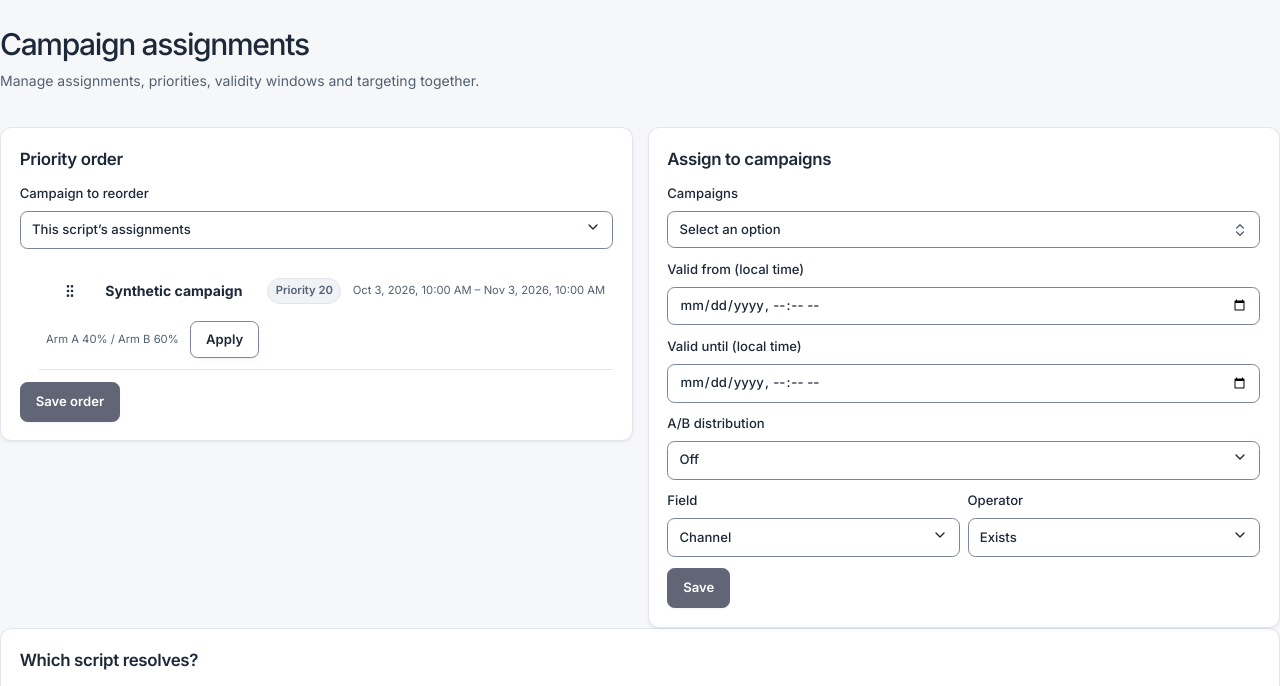
Test case: keeps an assignment editor open when batch saving fails and allows cancel
The image size is (1280, 686).
Expected: the text "Synthetic campaign" is shown, [105,280,256,301]
Click the button "Apply": x=225, y=339 [190,321,259,358]
(page scrolled)
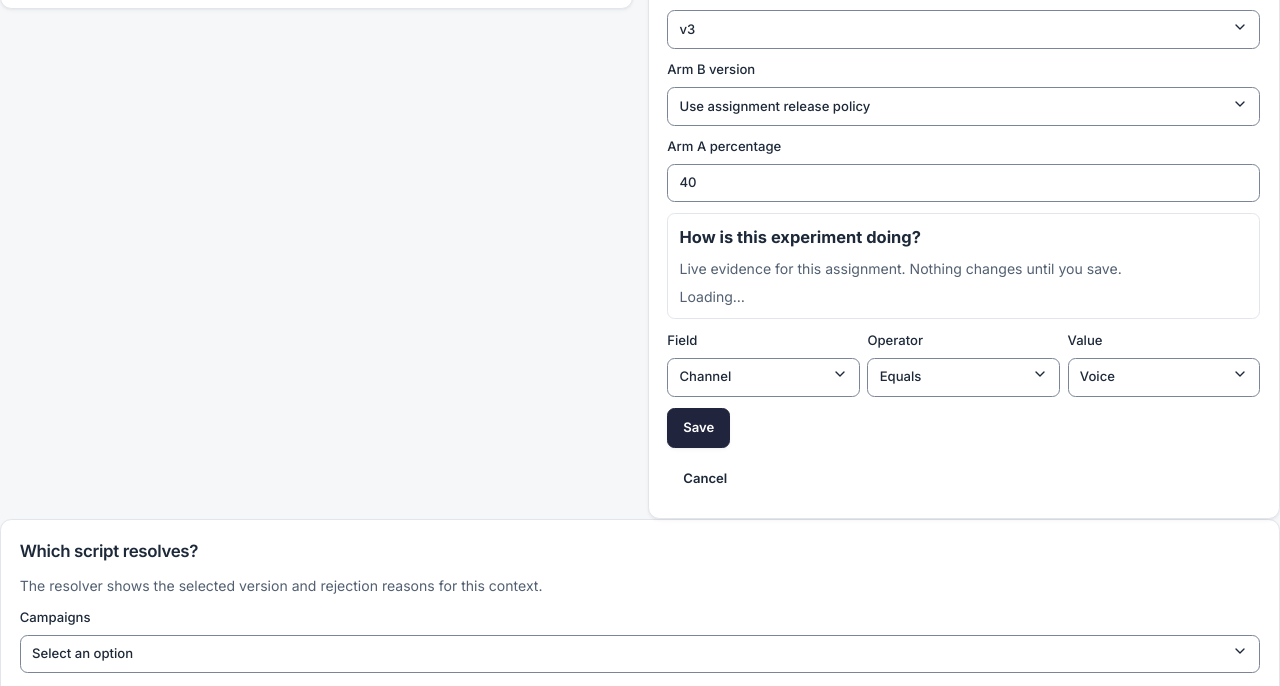
Click the button "Save": x=699, y=428 [667,408,730,448]
(page scrolled)
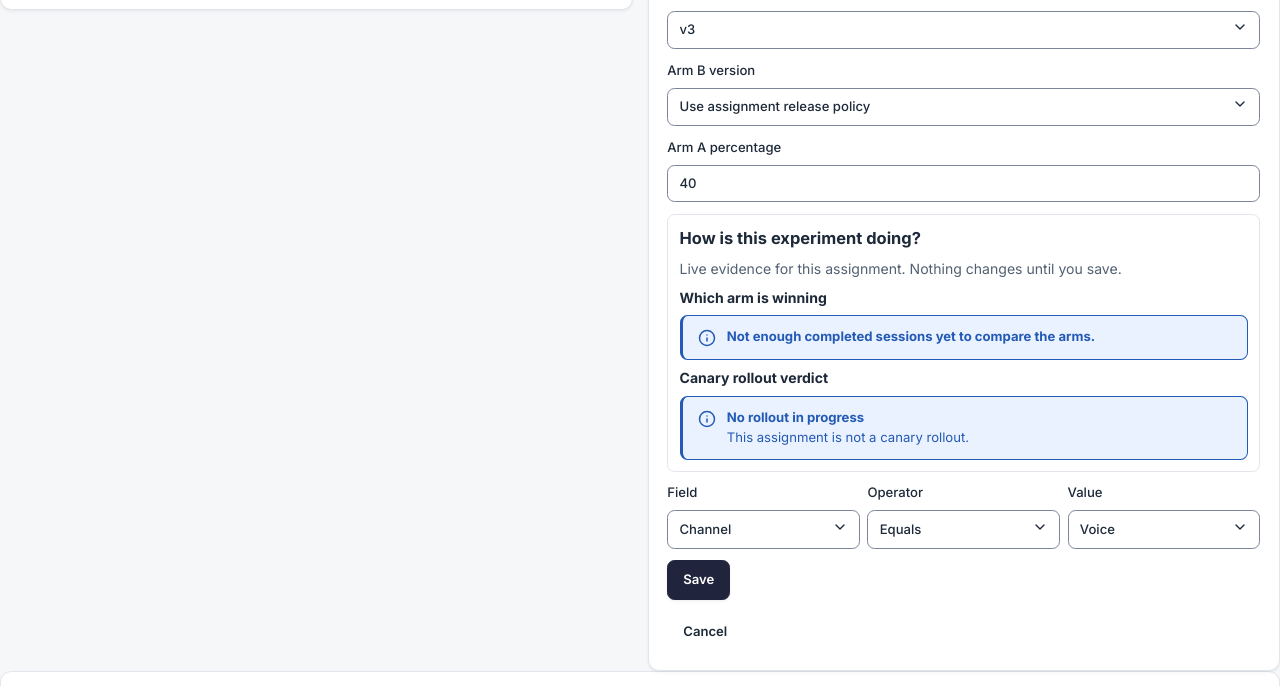
Click the button "Cancel": x=705, y=632 [667,612,743,652]
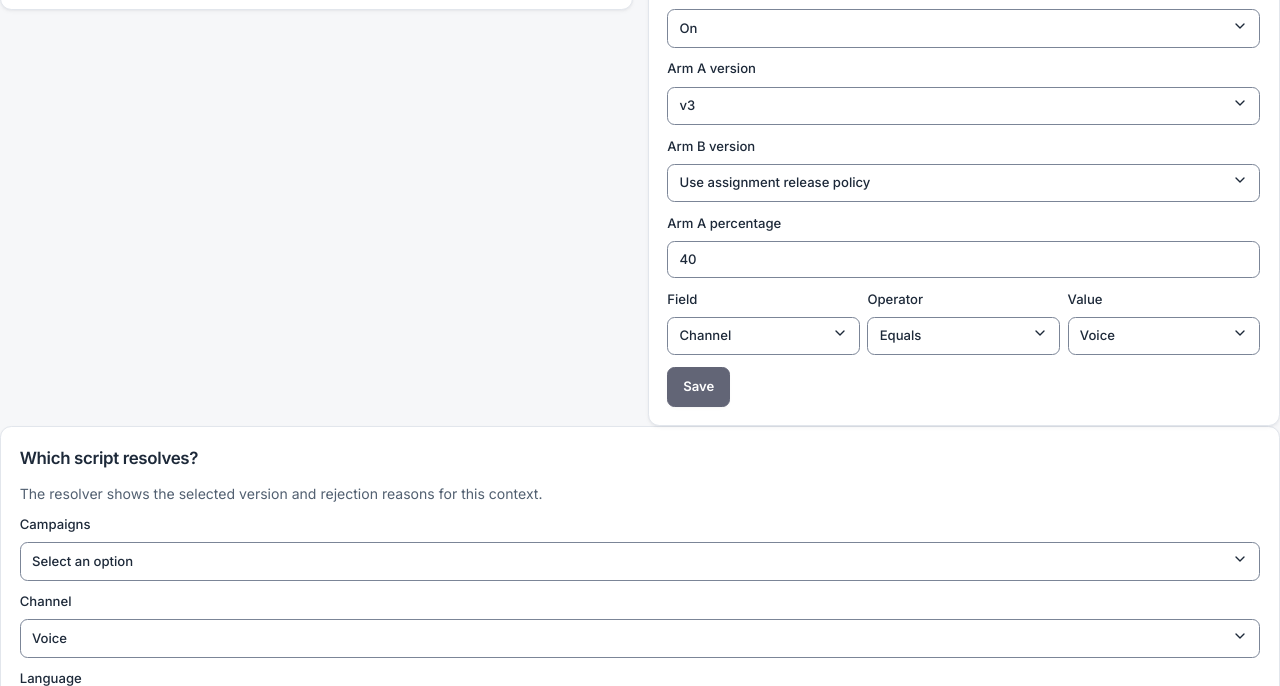
Now the button "Cancel" is gone
